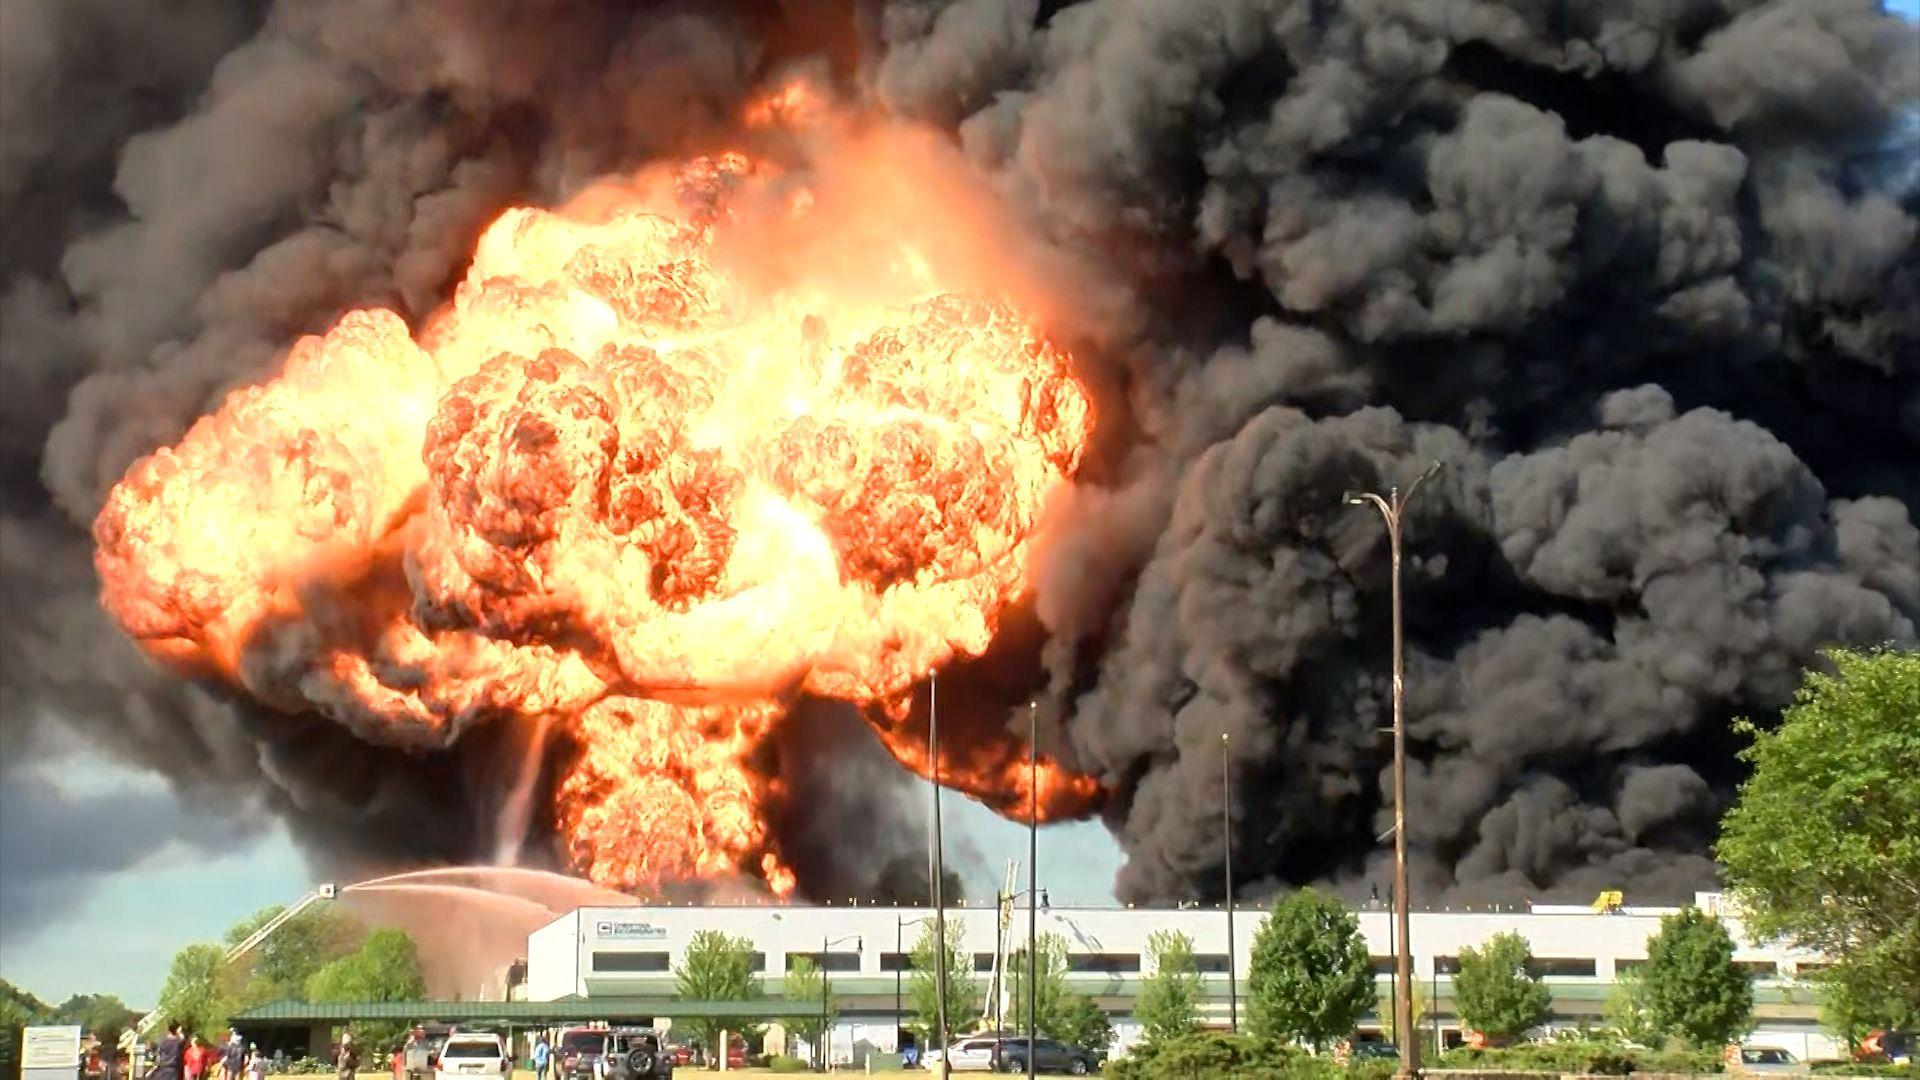fire: (86, 108, 1124, 910)
